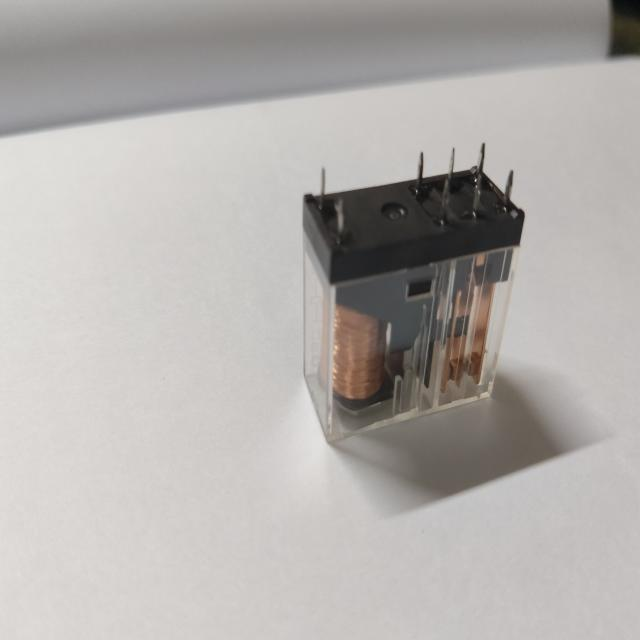relay: (279, 141, 539, 455)
